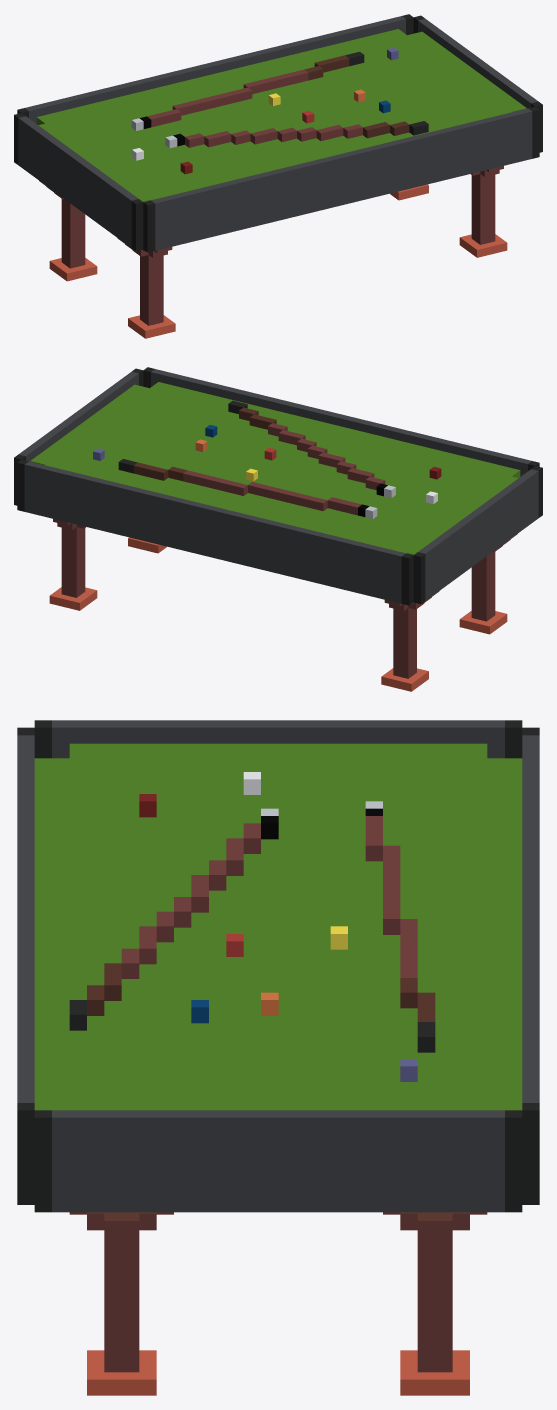
File: pool-table.obj
3 renders of one model, top to bottom at view 1: azimuth 30°, elevation 25°; view 2: azimuth 150°, elevation 25°; view 3: azimuth 270°, elevation 25°, orthographic. The views are drawn at different scales.
Size of the model in its own units: 5.4 by 1.9 by 3.
Materials: 1 (1 with a texture image).
